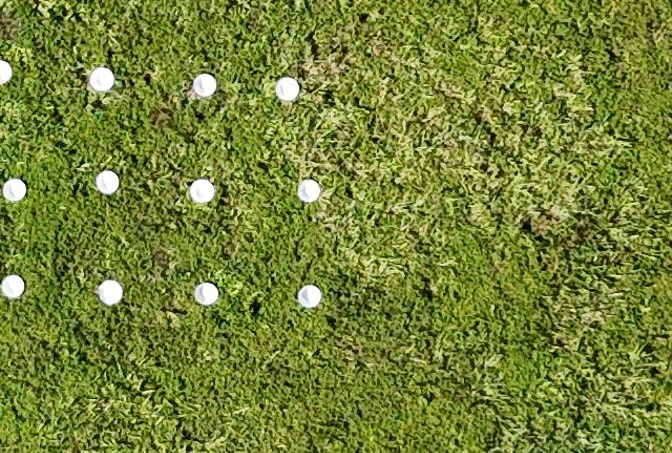bowl: (271, 75, 301, 103), (186, 177, 216, 205), (86, 67, 116, 94), (190, 72, 217, 100), (1, 176, 27, 203), (193, 280, 219, 307), (97, 279, 123, 305), (0, 274, 25, 300), (94, 170, 119, 196), (296, 178, 322, 203), (297, 285, 322, 308), (0, 59, 12, 85)
